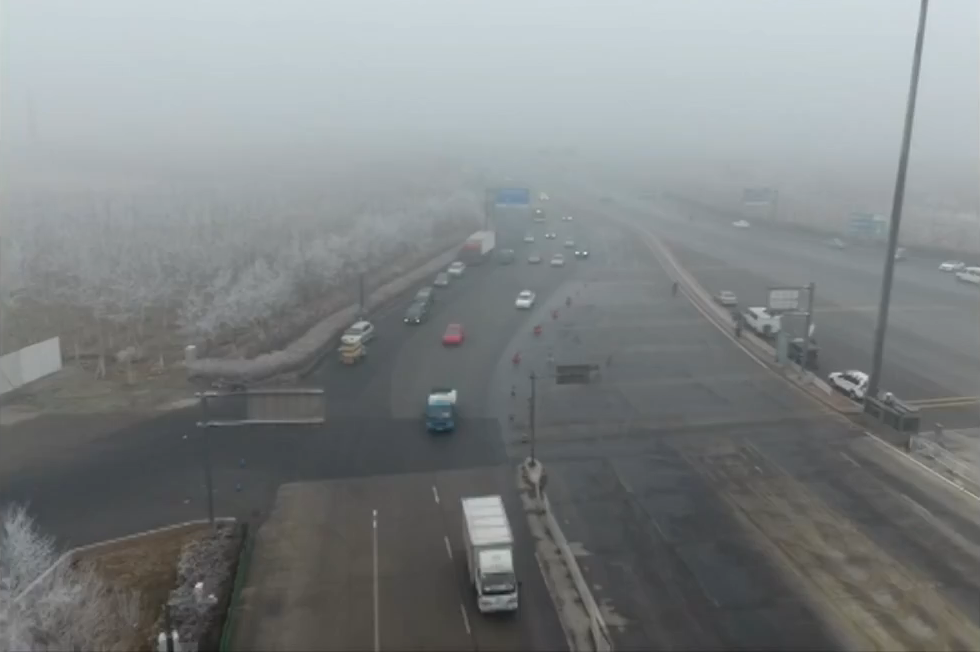bus: (454, 496, 520, 616), (458, 228, 496, 266)
car: (827, 368, 878, 402), (422, 389, 459, 434), (742, 305, 781, 339), (340, 317, 376, 348), (786, 336, 816, 372), (441, 323, 466, 346), (401, 304, 427, 326), (412, 283, 434, 308), (956, 265, 980, 286), (513, 289, 535, 310), (938, 258, 966, 274), (717, 289, 740, 308), (427, 270, 451, 287), (448, 261, 465, 278), (573, 245, 591, 260), (549, 253, 566, 267), (733, 218, 750, 231), (527, 253, 544, 265), (501, 253, 516, 264)
